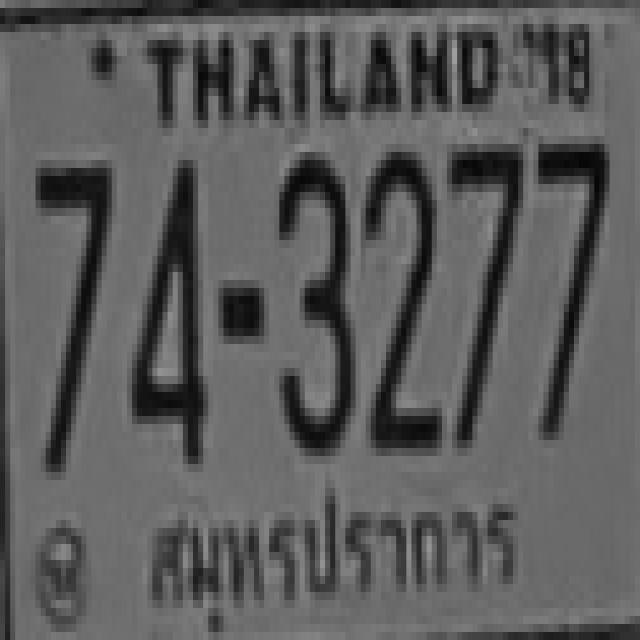2: (361, 148, 432, 444)
3: (274, 152, 350, 448)
4: (127, 152, 203, 456)
7: (30, 156, 106, 468), (447, 136, 518, 440), (534, 136, 604, 432), (447, 136, 518, 376)
SamutPrakan: (128, 468, 535, 626)
